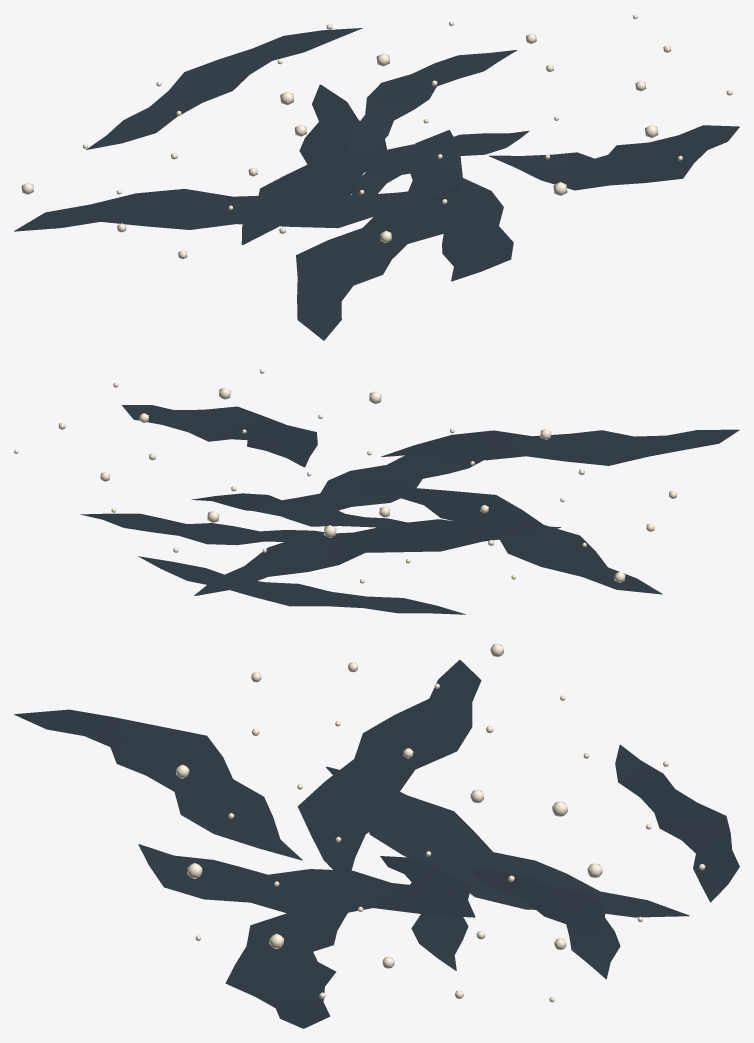
File: dwarf_galaxy.glb
The picture shows the model from 3 angles, top to bottom: view 1: azimuth 30°, elevation 25°; view 2: azimuth 150°, elevation 25°; view 3: azimuth 270°, elevation 25°; orthographic projection. The views are drawn at different scales.
Parts seen in each view (by area): view 1: dwarf_galaxy_textured_mesh; view 2: dwarf_galaxy_textured_mesh; view 3: dwarf_galaxy_textured_mesh.
Part boxes in pixels (x1=…): dwarf_galaxy_textured_mesh: x1=14, y1=14, x2=739, y2=340; dwarf_galaxy_textured_mesh: x1=14, y1=369, x2=739, y2=614; dwarf_galaxy_textured_mesh: x1=14, y1=643, x2=739, y2=1028.
Size of the model in its own units: 2.22 by 0.1838 by 1.86.
Materials: 1 (1 with a texture image).
